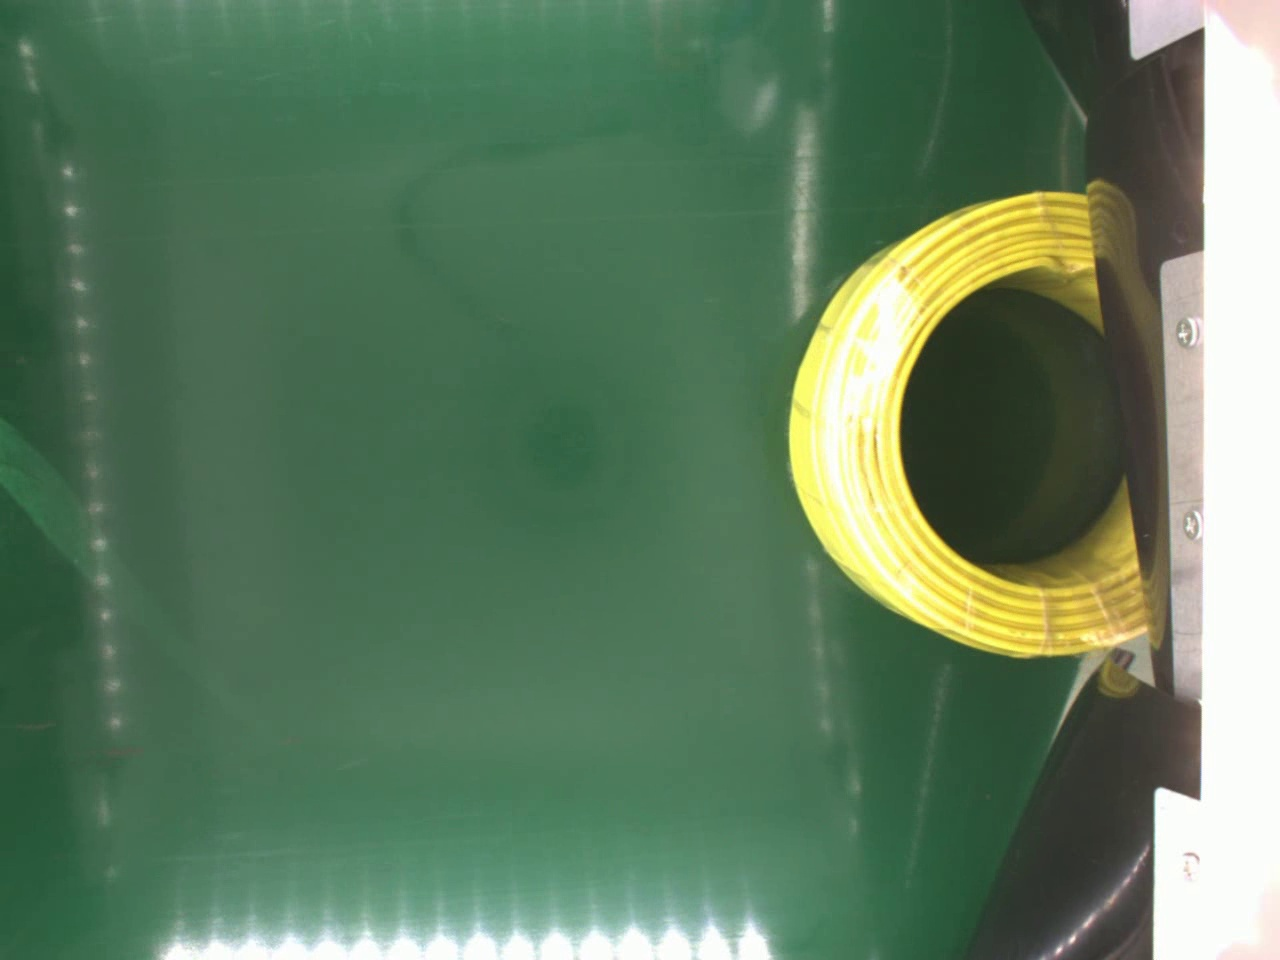yellow: (782, 185, 1150, 658)
